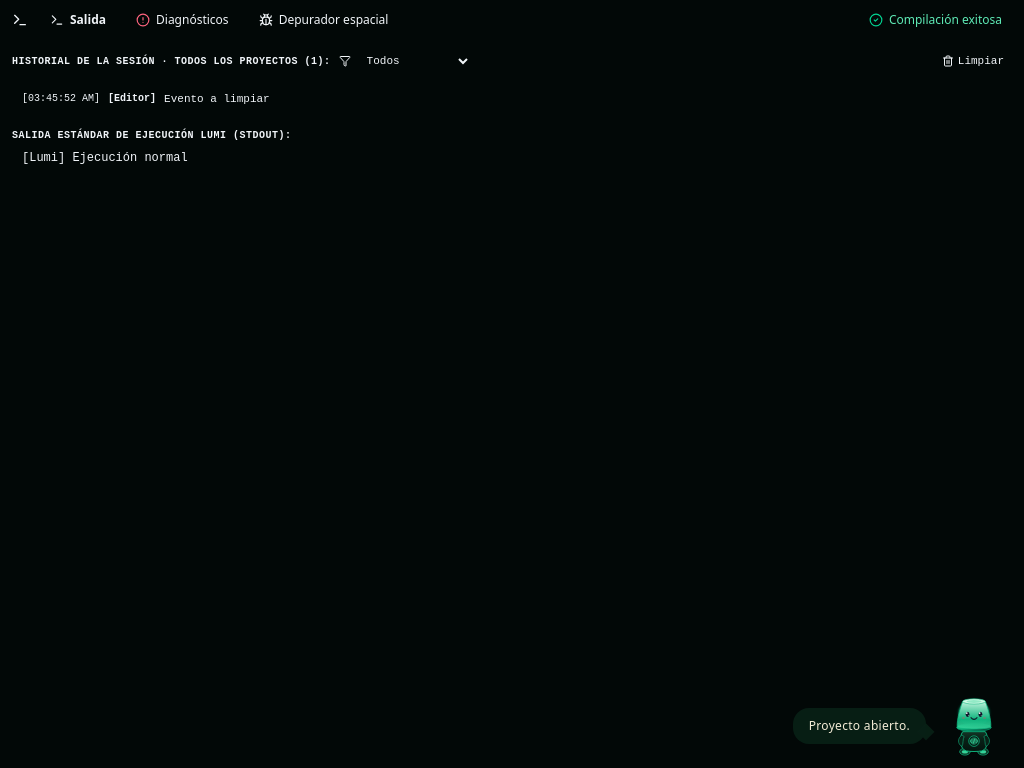
Test: ConsolePanel & OutputLogView Integration › debe limpiar los registros del IDE y vaciar el stream al presionar "Limpiar"
Expected: the text "Evento a limpiar" is shown, [164, 93, 270, 105]
Click the button with aria-label "limpiar registros" at (973, 61), box [934, 52, 1012, 71]
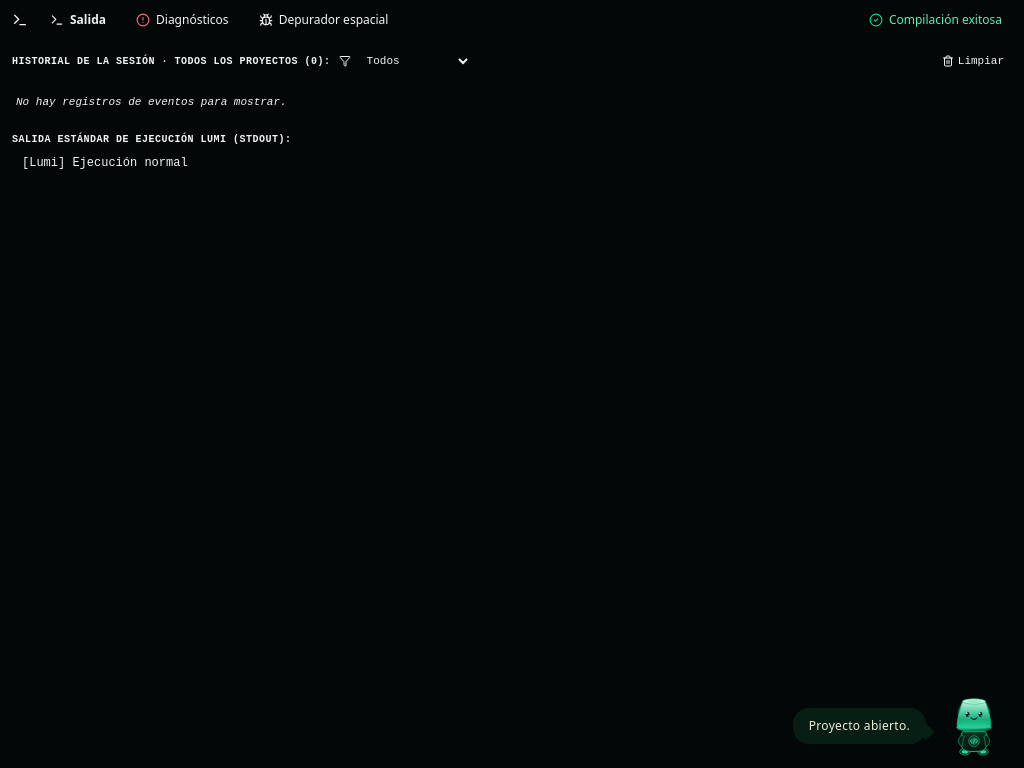
Expected: the text "Evento a limpiar" is gone
Expected: the text "No hay registros de eventos para mostrar." is shown, [16, 96, 287, 108]
